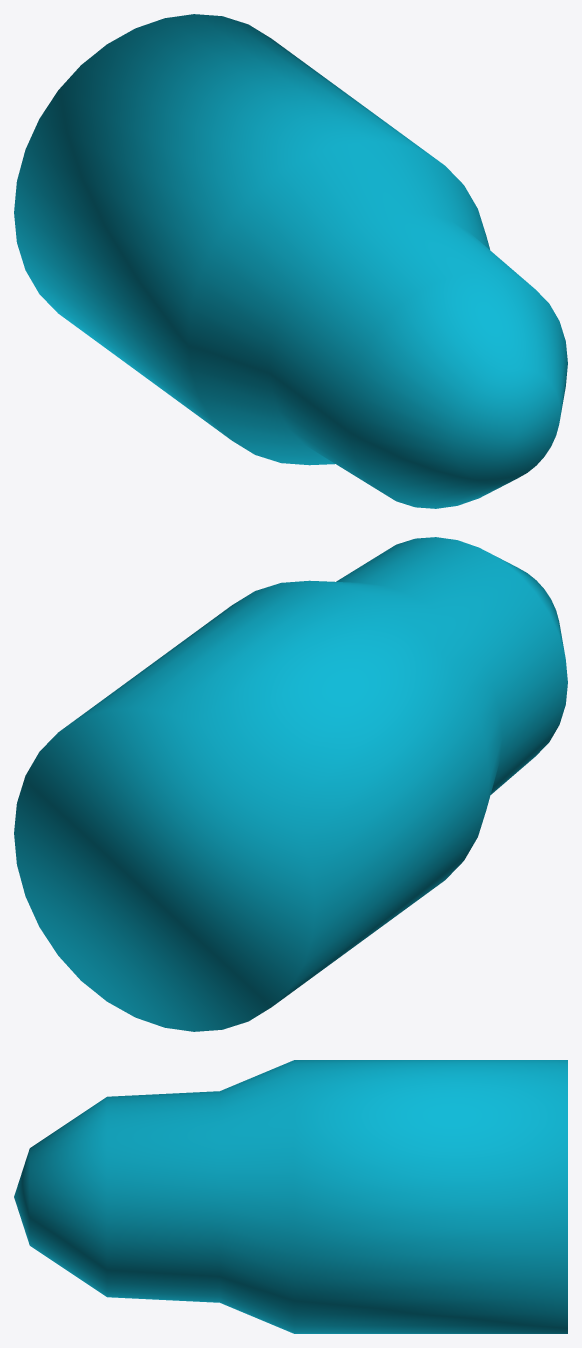
Rendered from shell.fbx.
3 renders of one model, top to bottom at view 1: azimuth 30°, elevation 25°; view 2: azimuth 150°, elevation 25°; view 3: azimuth 270°, elevation 25°, orthographic. The views are drawn at different scales.
Parts seen in each view (by area): view 1: Cylinder; view 2: Cylinder; view 3: Cylinder.
Part boxes in pixels (<box>): Cylinder: <box>14,14,567,508</box>; Cylinder: <box>14,537,567,1031</box>; Cylinder: <box>14,1060,567,1333</box>.
Bounding box in the file's own units: 200 × 200 × 404.
